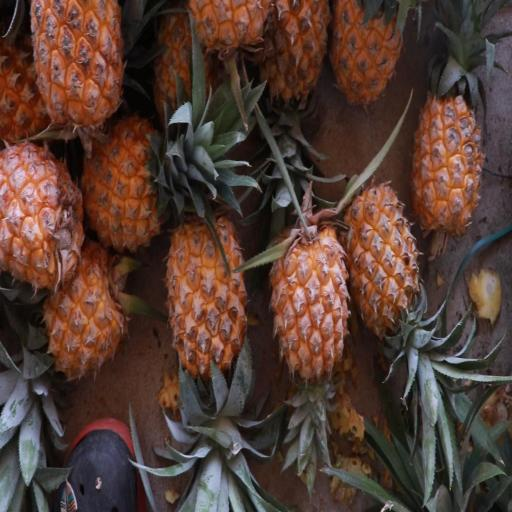Pineapple - v8 v1: (164, 210, 252, 421), (71, 115, 195, 262), (338, 180, 424, 374), (265, 225, 353, 409), (29, 0, 128, 155), (408, 58, 487, 248), (0, 130, 89, 294), (39, 237, 133, 388), (330, 0, 408, 118)
